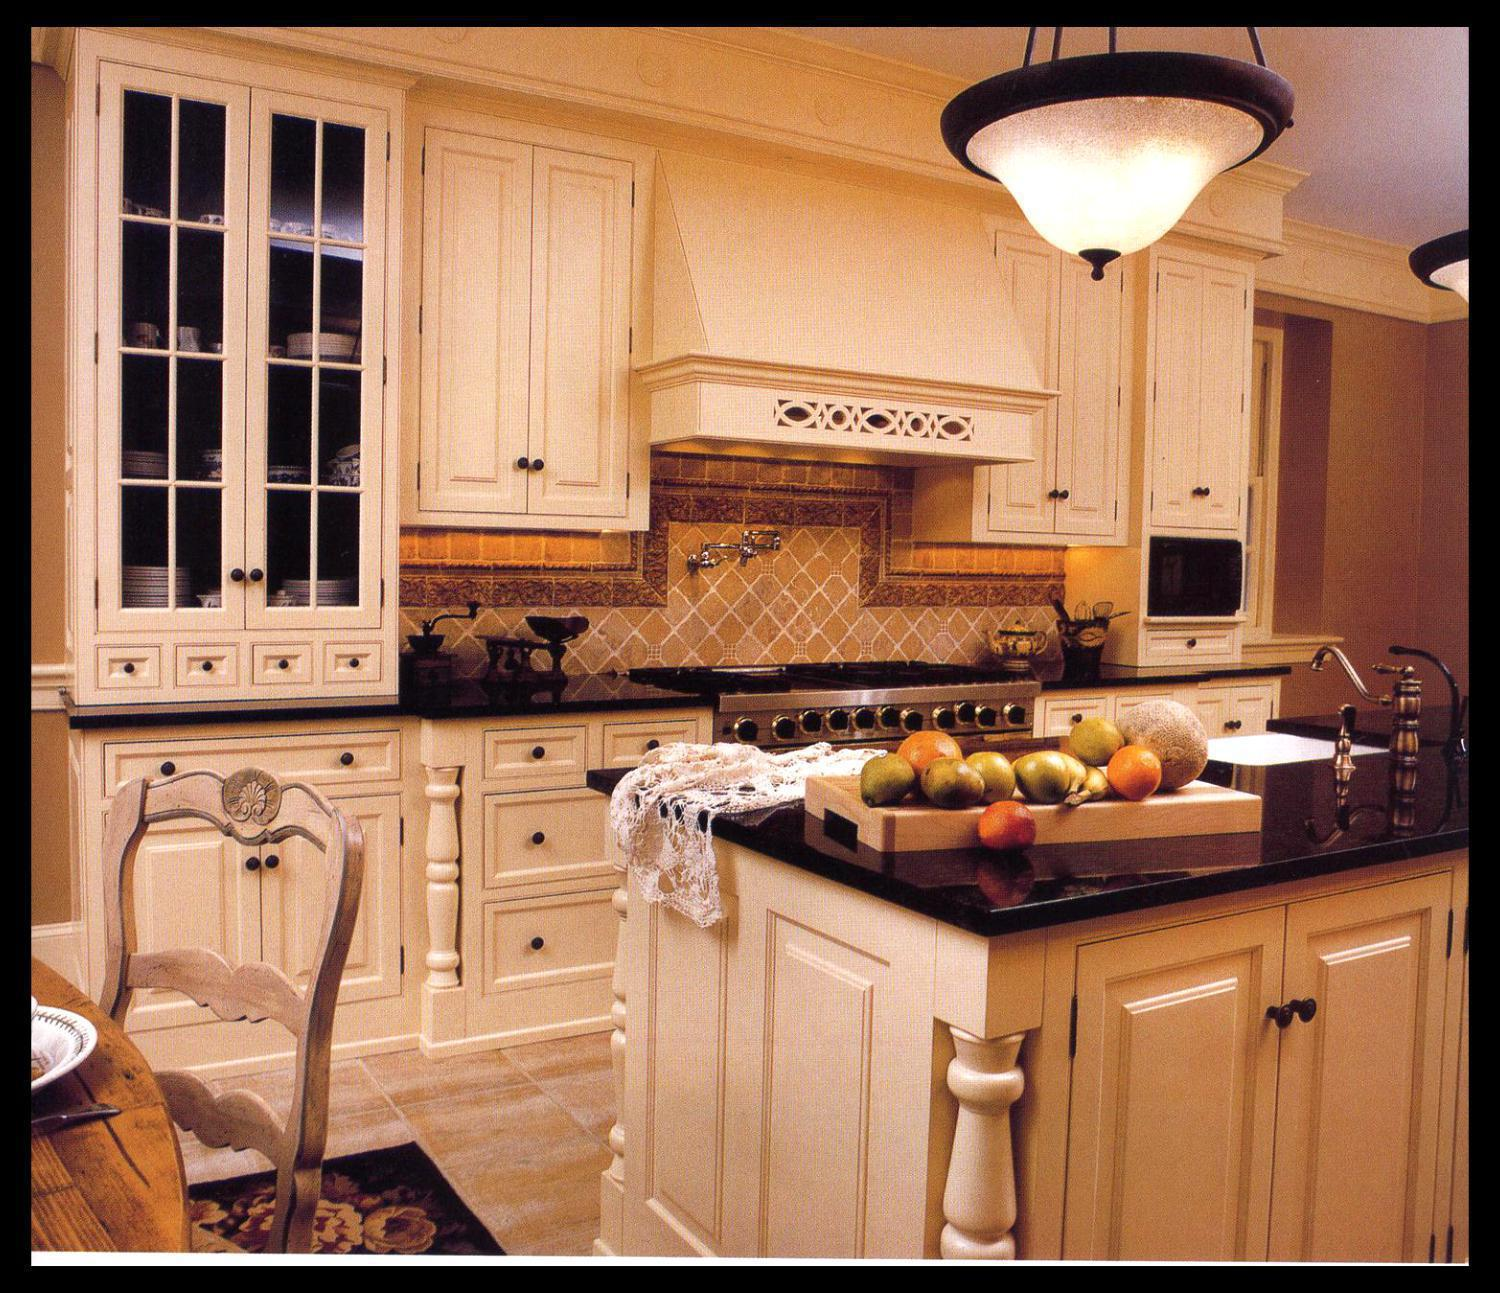Electrodomestico: (690, 653, 1042, 734)
Lavaplatos: (1184, 644, 1446, 770)
